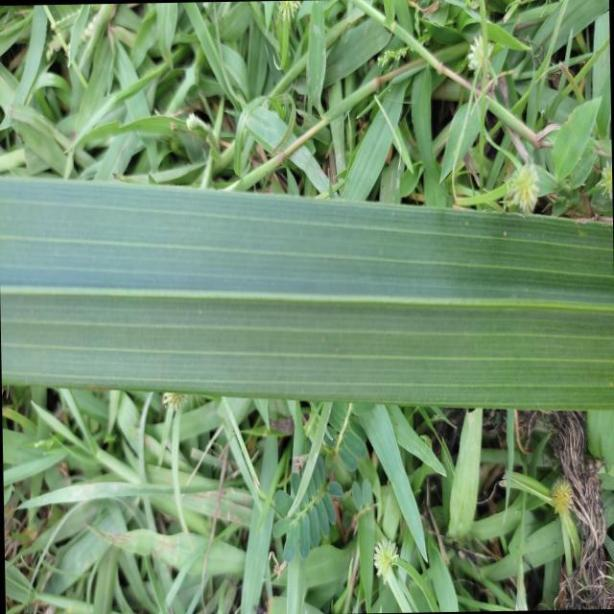Healthy: (0, 171, 614, 413)
